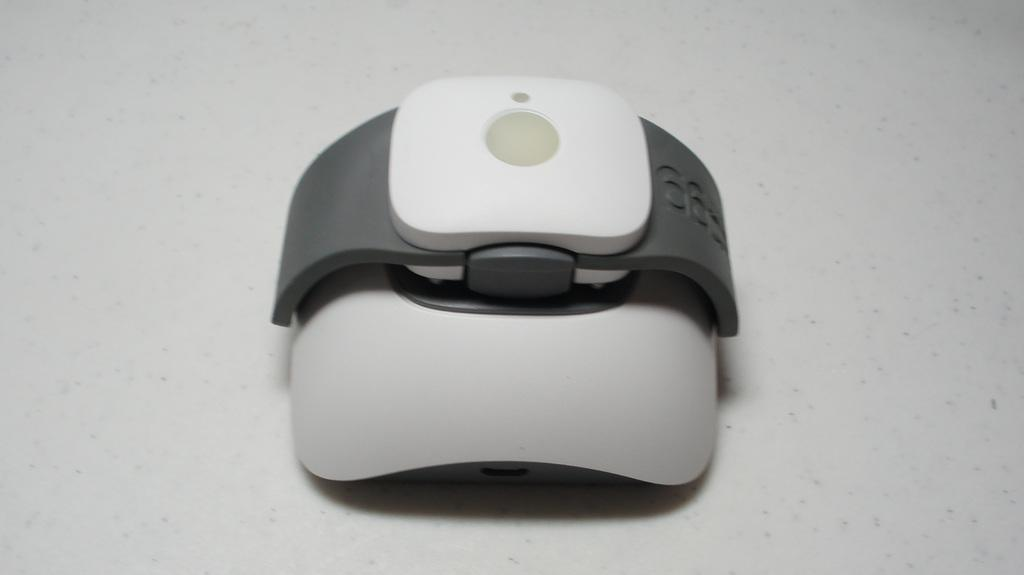Computer-mouse: (270, 70, 744, 492)
